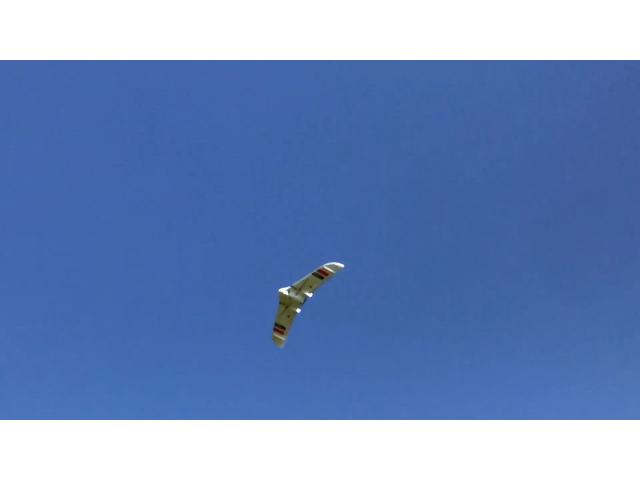Anti-Drone: (237, 253, 369, 356)
